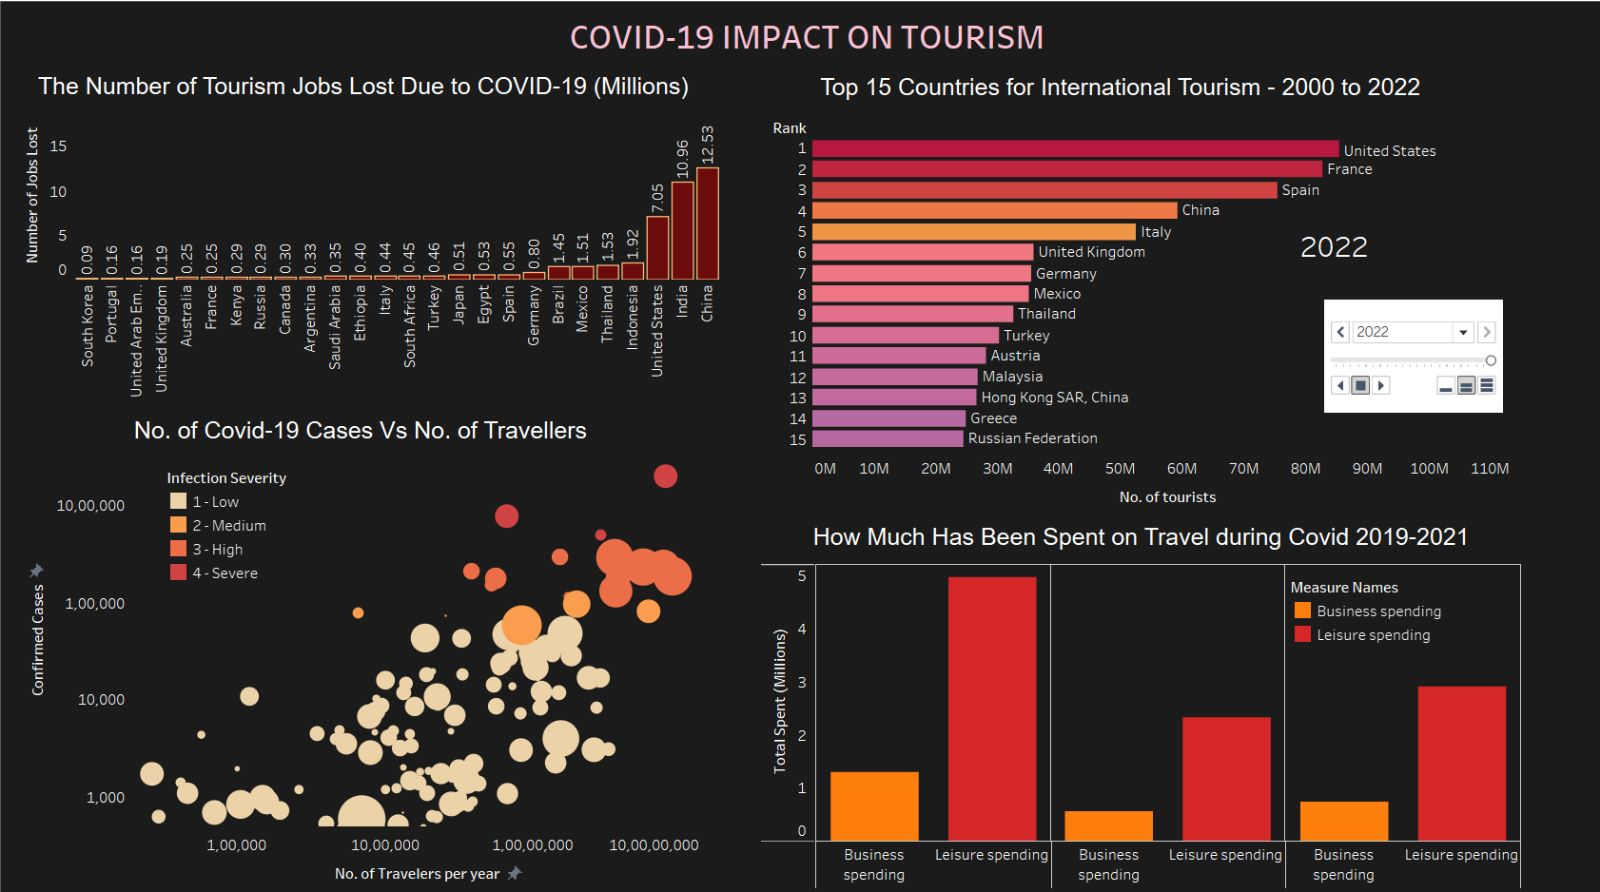

Layout of this report page (visuals, bound fields, positions):
{"tool":"tableau","page":{"name":"COVID D2","canvas":[1366,768],"ordinal":1},"visuals":[{"type":"text","box":[484,10,406,54]},{"type":"worksheet","title":"jobs lost","mark":"Bar","rows":["F2"],"cols":["F1"],"box":[19,64,594,278]},{"type":"worksheet","title":"top 15","mark":"Automatic","cols":["No. of tourists"],"box":[611,65,678,375]},{"type":"currpage","title":"top 15","box":[998,261,255,92]},{"type":"worksheet","title":"no. cases and travelers","mark":"Circle","rows":["Confirmed"],"cols":["Travellers"],"box":[24,354,574,403]},{"type":"legend","title":"no. cases and travelers","param":"[federated.09acppi03knlu618su2741raqxf3].[usr:Calculation_2939654349242359808:nk","box":[148,400,191,132]},{"type":"worksheet","title":"spending","mark":"Automatic","cols":["F1"],"box":[648,443,639,312]},{"type":"legend","title":"spending","param":"[federated.0h26faq0zn0kjr12y6wdy0ust5u5].[:Measure Names]","box":[1093,492,191,72]}]}

Visuals, with their boxes in screenshot pixels (x1, y1, x2, y2), scaled from the page's 1366x768 canvas onto the 1600x892 screenshot:
text: bbox(567, 12, 1042, 74)
"jobs lost" worksheet (Bar marks): bbox(22, 74, 718, 397)
"top 15" worksheet: bbox(716, 75, 1510, 511)
"top 15" currpage: bbox(1169, 303, 1468, 410)
"no. cases and travelers" worksheet (Circle marks): bbox(28, 411, 700, 879)
"no. cases and travelers" legend: bbox(173, 465, 397, 618)
"spending" worksheet: bbox(759, 515, 1507, 877)
"spending" legend: bbox(1280, 571, 1504, 655)
